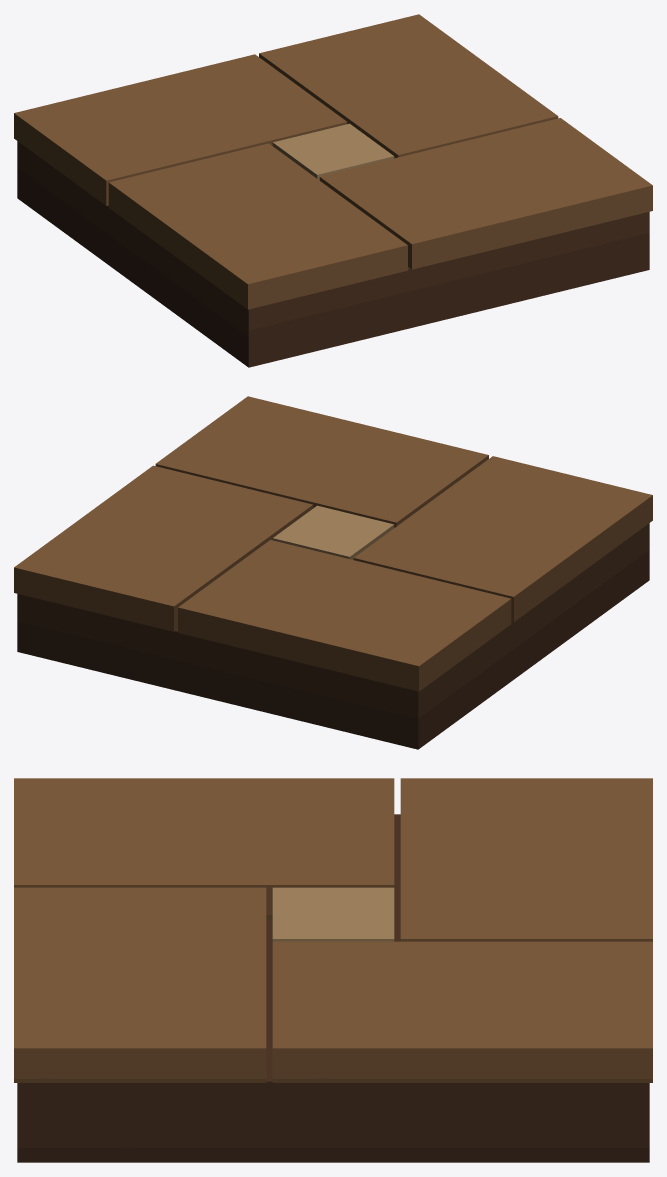
File: foundation_wood.glb
3 views of the same model, one above another, from view 1: azimuth 30°, elevation 25°; view 2: azimuth 150°, elevation 25°; view 3: azimuth 270°, elevation 25° (orthographic). The views are drawn at different scales.
Bounding box in the file's own units: 1 × 0.2 × 1.
Materials: 1 (1 with a texture image).
